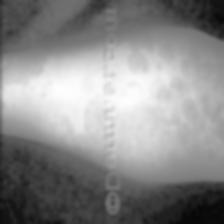Toxin: (126, 29, 156, 80), (178, 96, 201, 130), (158, 42, 176, 66)
